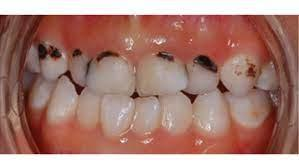Caries: (33, 40, 66, 64), (195, 55, 223, 79), (94, 47, 125, 67), (155, 50, 181, 65), (69, 48, 88, 64)
